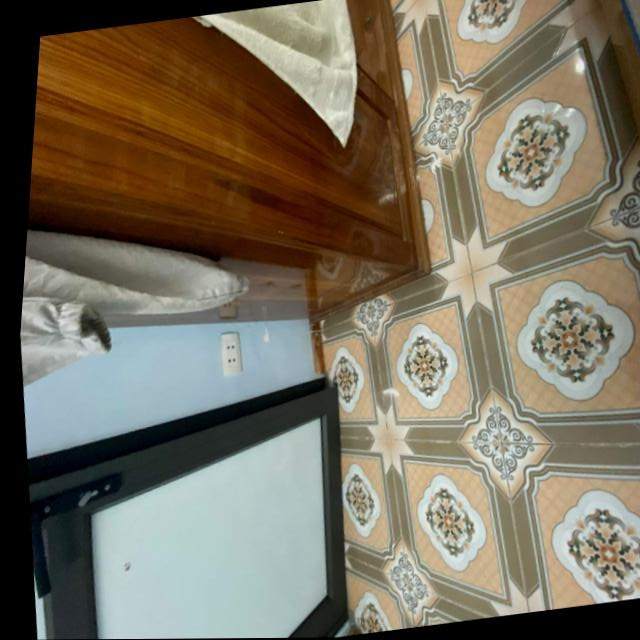outlet: (216, 332, 244, 378)
